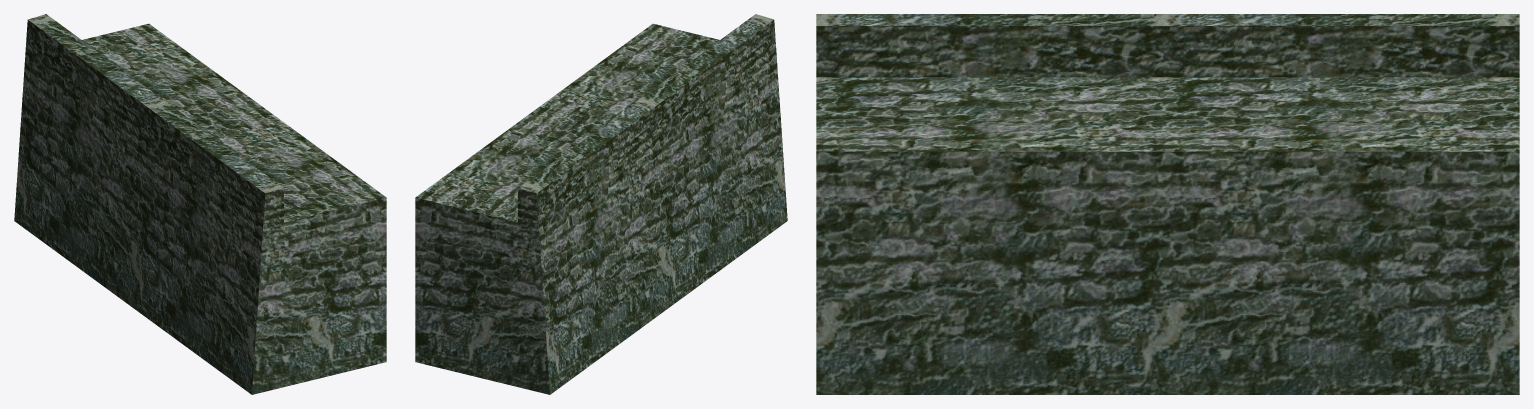
The model's file is tnwall.glb.
3 renders of one model, left to right at view 1: azimuth 30°, elevation 25°; view 2: azimuth 150°, elevation 25°; view 3: azimuth 270°, elevation 25°, orthographic. The views are drawn at different scales.
Visible parts, largest first — view 1: tnwall; view 2: tnwall; view 3: tnwall.
Boxes of the visible parts, bbox=[...] form: tnwall: bbox=[14, 14, 386, 394]; tnwall: bbox=[415, 14, 787, 394]; tnwall: bbox=[816, 14, 1519, 394].
Bounding box in the file's own units: 3.38 × 4.77 × 10.32.
Materials: 1 (1 with a texture image).
